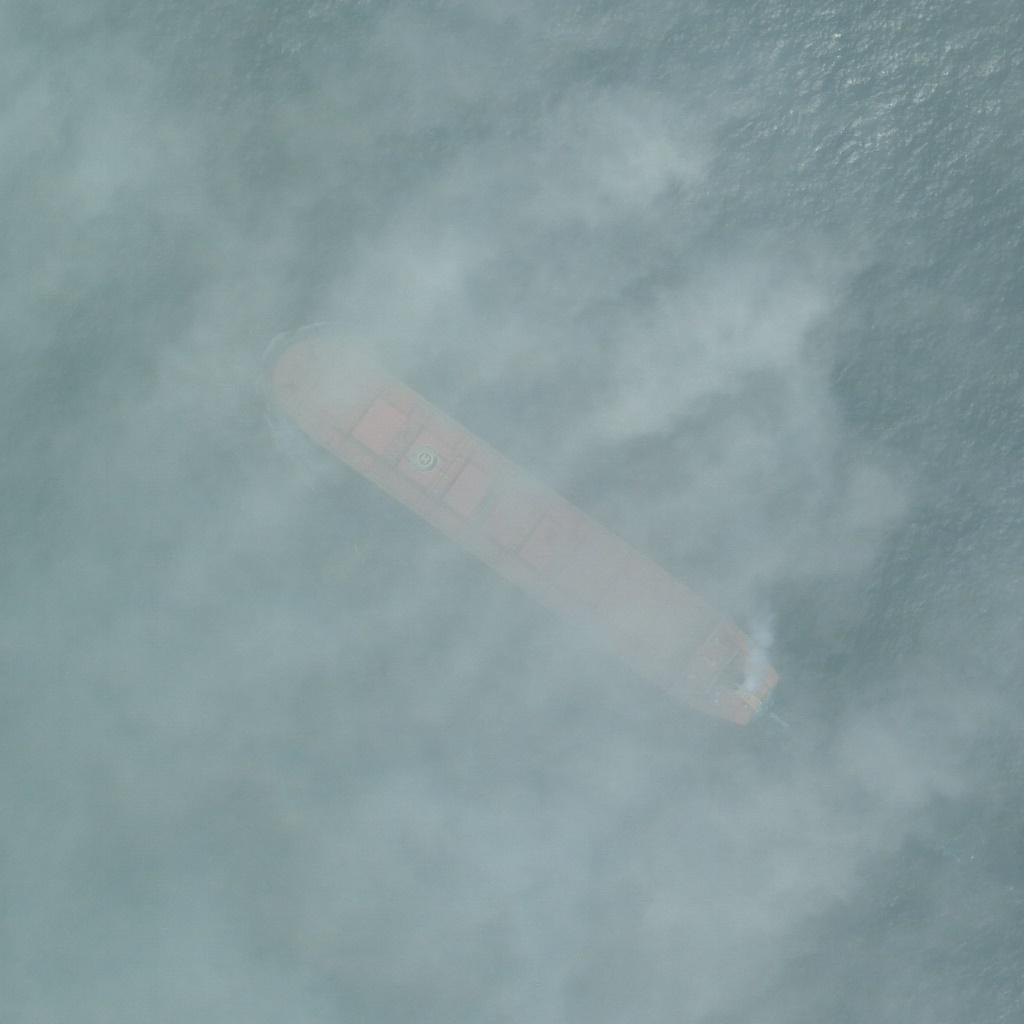ship: (263, 333, 783, 729)
